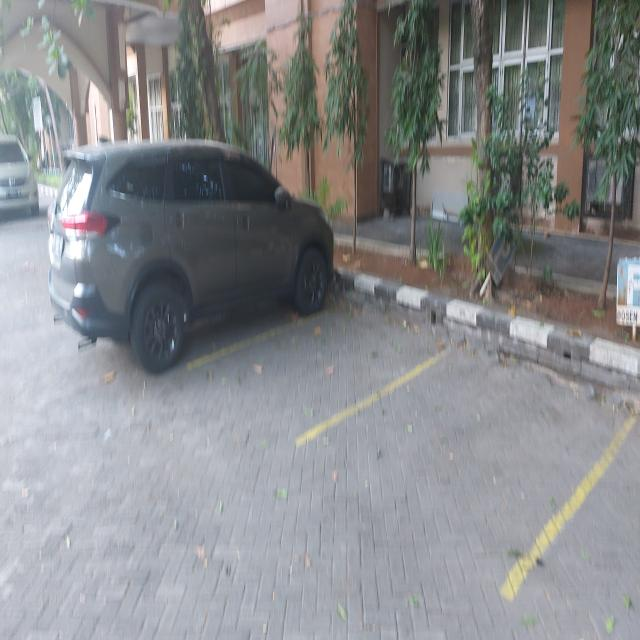empty: (295, 344, 640, 588), (185, 299, 452, 446)
occupied: (46, 145, 336, 377)
